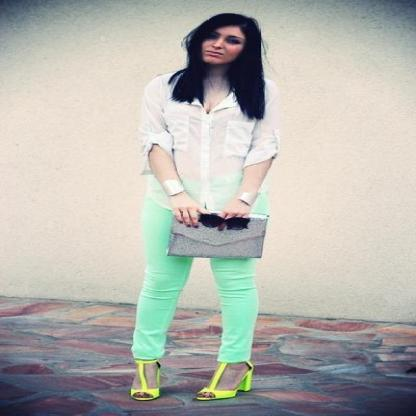bag: (166, 217, 268, 265)
pants: (130, 197, 257, 366)
shirt: (147, 93, 276, 215)
shoe: (125, 358, 258, 400)
sunglass: (198, 213, 250, 230)
